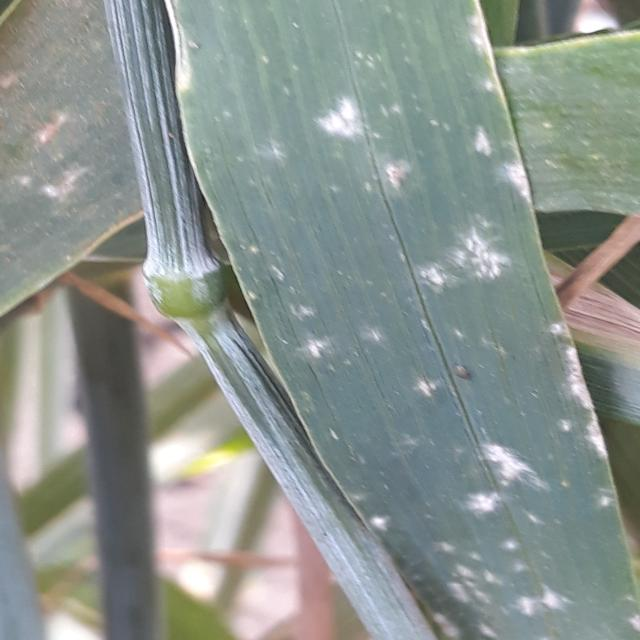powder_mildew: (168, 14, 630, 640), (0, 0, 139, 276)
